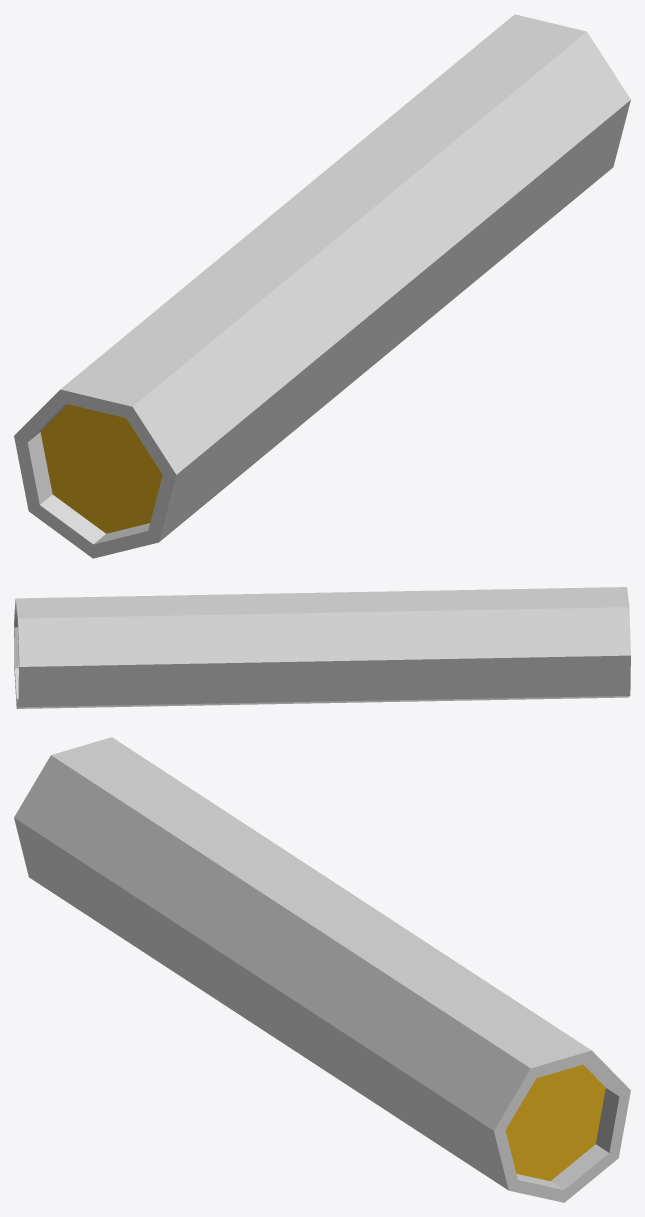
File: Kloda1.fbx
The picture shows the model from 3 angles, top to bottom: view 1: azimuth 30°, elevation 25°; view 2: azimuth 150°, elevation 25°; view 3: azimuth 270°, elevation 25°; orthographic projection. The views are drawn at different scales.
Parts seen in each view (by area): view 1: Cylinder_3; view 2: Cylinder_3; view 3: Cylinder_3.
Part boxes in pixels (x1,y1,x2,y2): Cylinder_3: (14, 14, 630, 558); Cylinder_3: (14, 587, 630, 708); Cylinder_3: (14, 737, 630, 1202).
Bounding box in the file's own units: 498 × 96.59 × 369.
